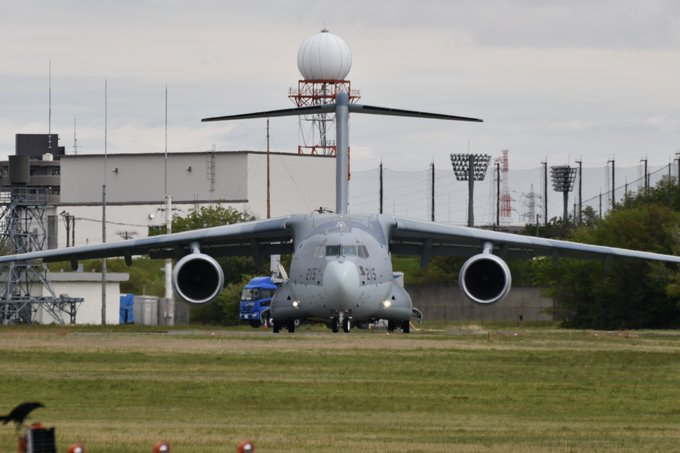airplane: (1, 90, 680, 334)
